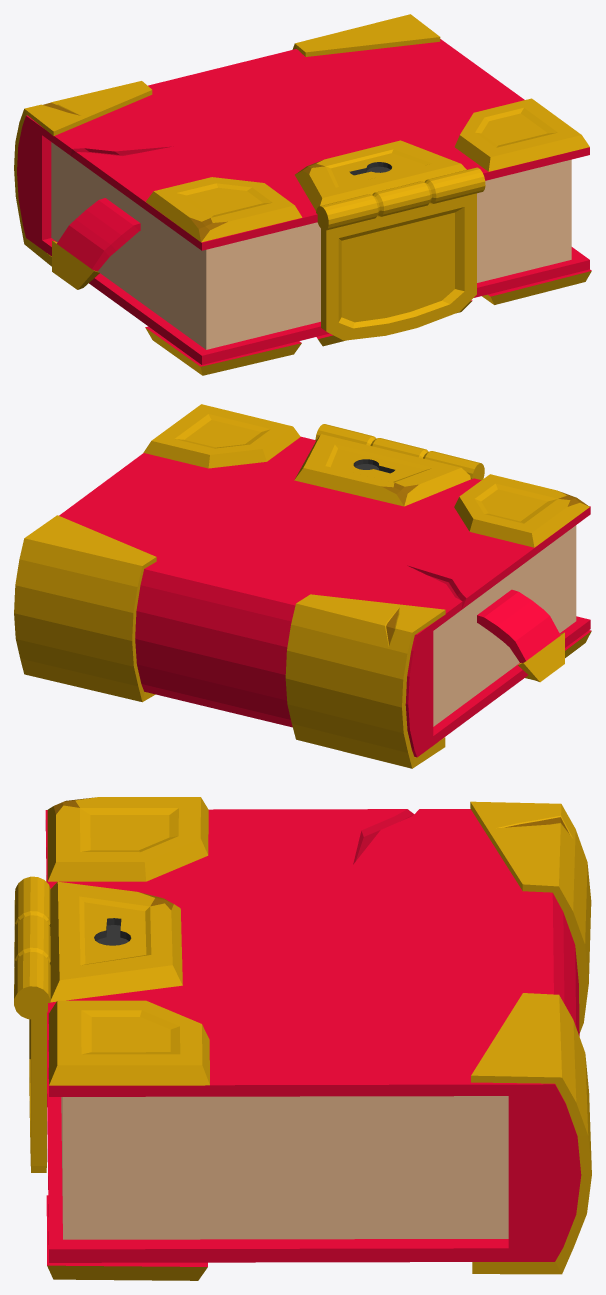
File: Book_Bound_Red.fbx
The picture shows the model from 3 angles, top to bottom: view 1: azimuth 30°, elevation 25°; view 2: azimuth 150°, elevation 25°; view 3: azimuth 270°, elevation 25°; orthographic projection. The views are drawn at different scales.
Parts seen in each view (by area): view 1: Book_Bound_Purple; view 2: Book_Bound_Purple; view 3: Book_Bound_Purple.
Part boxes in pixels (x1,y1,x2,y2): Book_Bound_Purple: (14, 14, 591, 375); Book_Bound_Purple: (14, 404, 591, 768); Book_Bound_Purple: (14, 797, 591, 1280).
Size of the model in its own units: 54.29 by 17.47 by 42.53.
